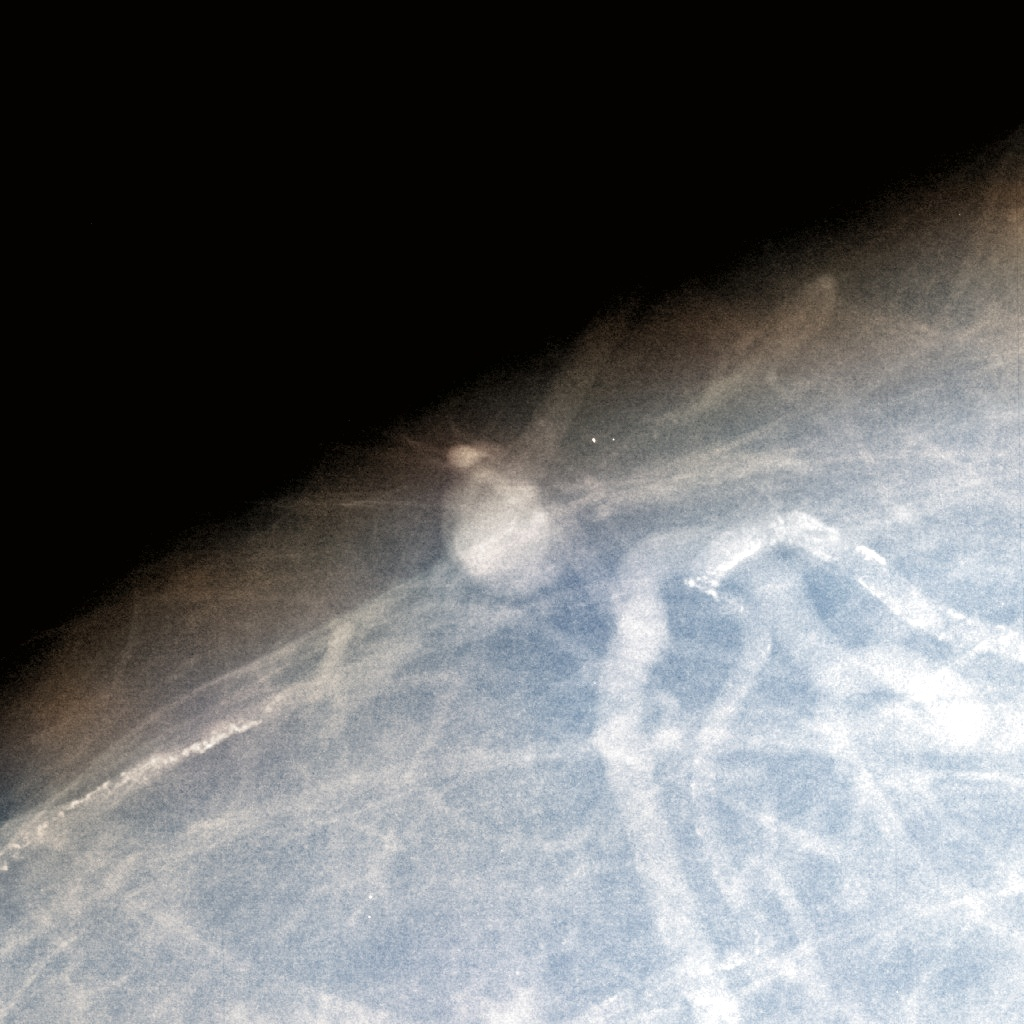tumor: (427, 430, 597, 594)
